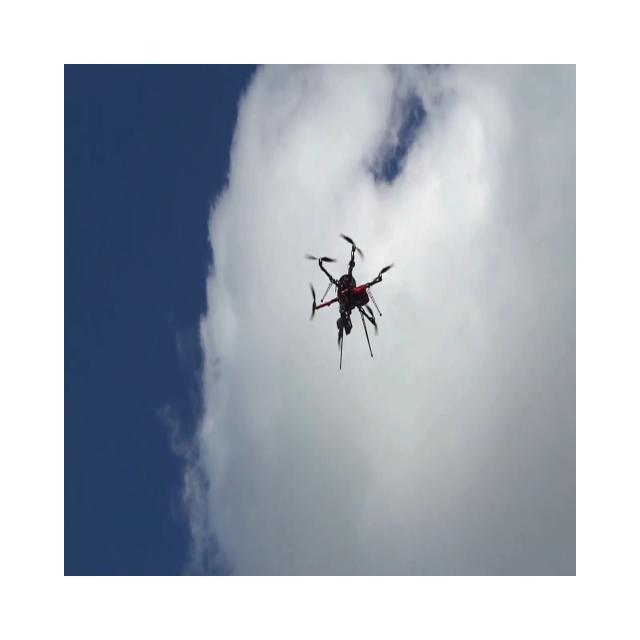drone: (304, 232, 394, 370)
